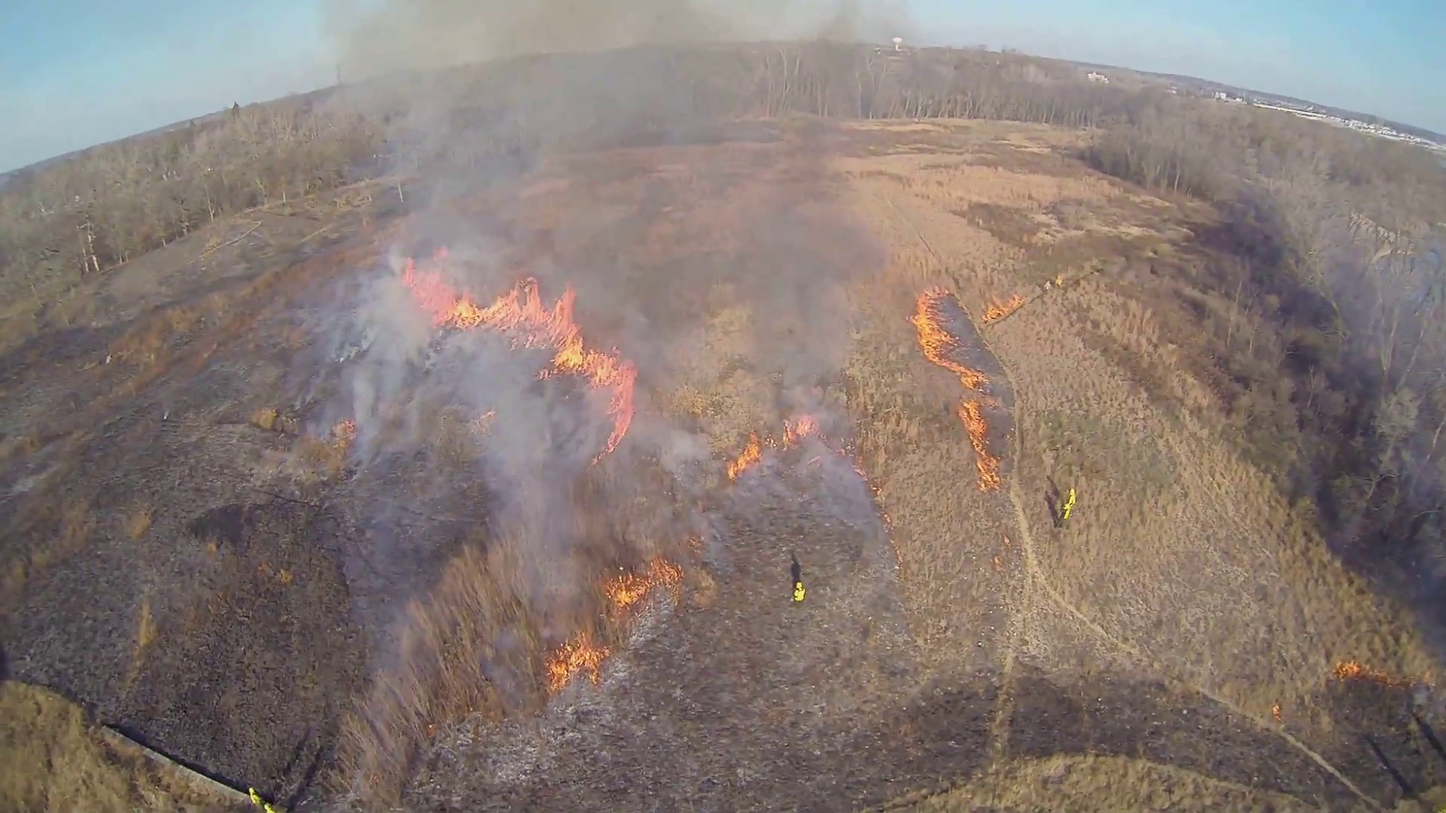forest_fire: (401, 260, 636, 452), (911, 288, 1003, 491), (605, 561, 682, 610), (548, 638, 608, 690), (1332, 660, 1429, 690), (726, 434, 768, 480), (984, 295, 1026, 324), (782, 416, 817, 446)
